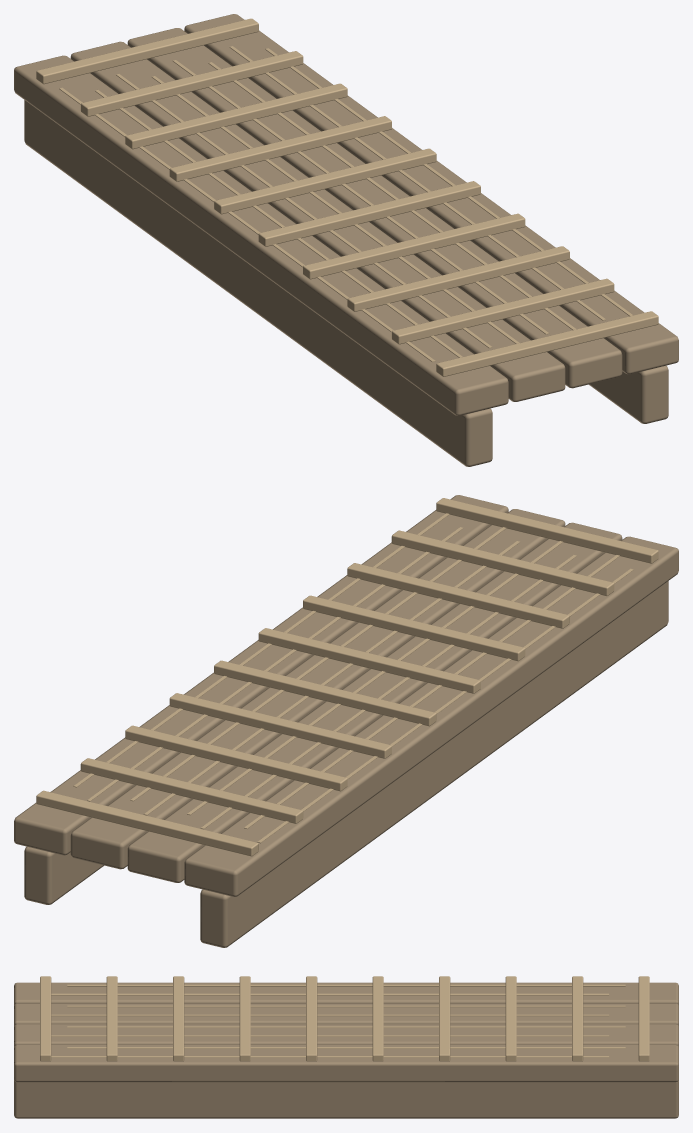
Rendered from coastal-saltworks-and-trade-port-coastal-saltworks-and-eb6e8879__31408.glb.
3 views of the same model, one above another, from view 1: azimuth 30°, elevation 25°; view 2: azimuth 150°, elevation 25°; view 3: azimuth 270°, elevation 25° (orthographic). The views are drawn at different scales.
Visible parts, largest first — view 1: coastal-saltworks-and-trade-port-barge-loading-plank; view 2: coastal-saltworks-and-trade-port-barge-loading-plank; view 3: coastal-saltworks-and-trade-port-barge-loading-plank.
Part boxes in pixels (box(x1,y1,x2,y2)): coastal-saltworks-and-trade-port-barge-loading-plank: box(14, 14, 678, 466); coastal-saltworks-and-trade-port-barge-loading-plank: box(14, 495, 678, 947); coastal-saltworks-and-trade-port-barge-loading-plank: box(14, 976, 678, 1118).
Bounding box in the file's own units: 0.611 × 0.234 × 2.1.
